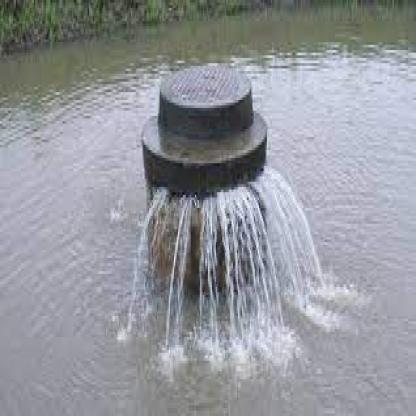drainage overflow-repair-: (73, 22, 349, 379)
